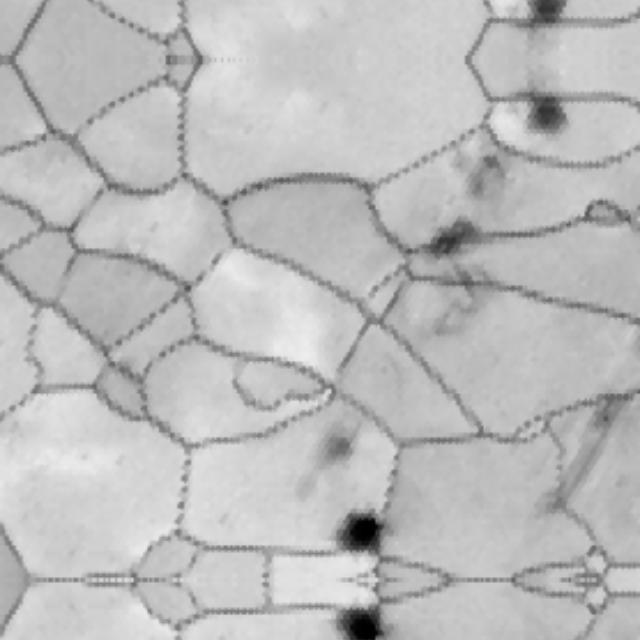good_void: (528, 381, 638, 519), (430, 262, 504, 336), (329, 502, 395, 562), (448, 146, 514, 205), (508, 82, 572, 136), (310, 417, 366, 476), (424, 215, 491, 263), (329, 597, 395, 640), (508, 0, 572, 36), (294, 469, 324, 502), (146, 217, 161, 236), (213, 511, 230, 525), (113, 453, 128, 467), (213, 634, 229, 640)
